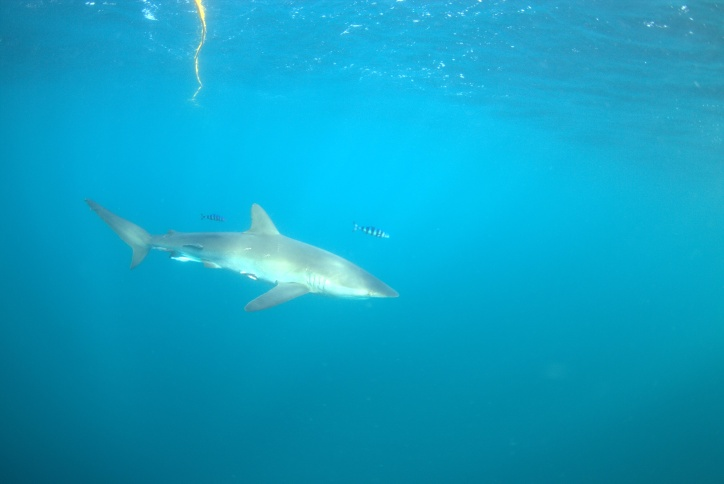Sedoso: (64, 178, 415, 334)
